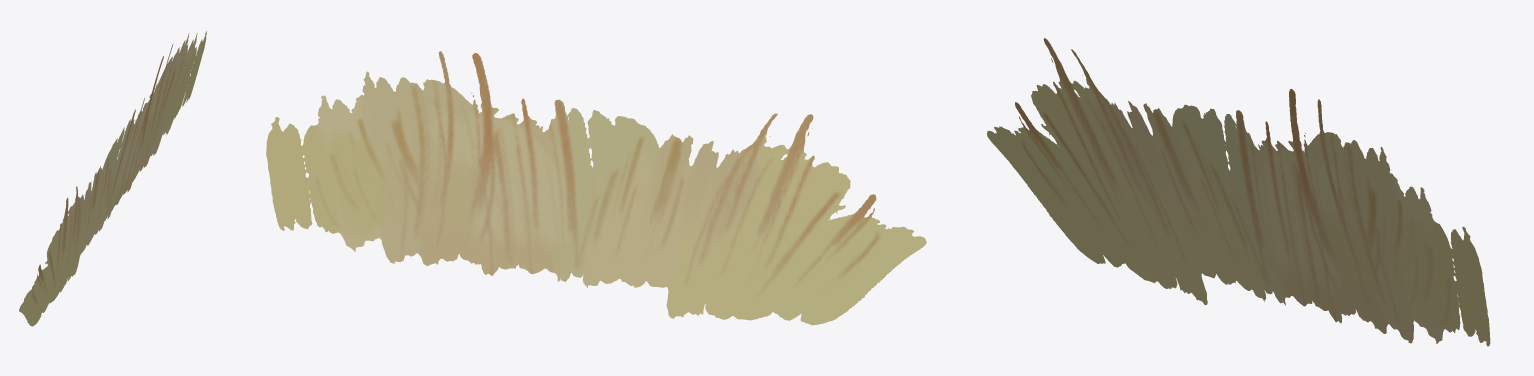
The model's file is grass3_004.fbx.
The picture shows the model from 3 angles, left to right: view 1: azimuth 30°, elevation 25°; view 2: azimuth 150°, elevation 25°; view 3: azimuth 270°, elevation 25°; orthographic projection. The views are drawn at different scales.
Parts seen in each view (by area): view 1: grass3.004; view 2: grass3.004; view 3: grass3.004.
Part boxes in pixels (<box>): grass3.004: <box>19,31,206,326</box>; grass3.004: <box>266,51,926,325</box>; grass3.004: <box>987,38,1490,346</box>.
Bounding box in the file's own units: 219 × 145 × 168.
